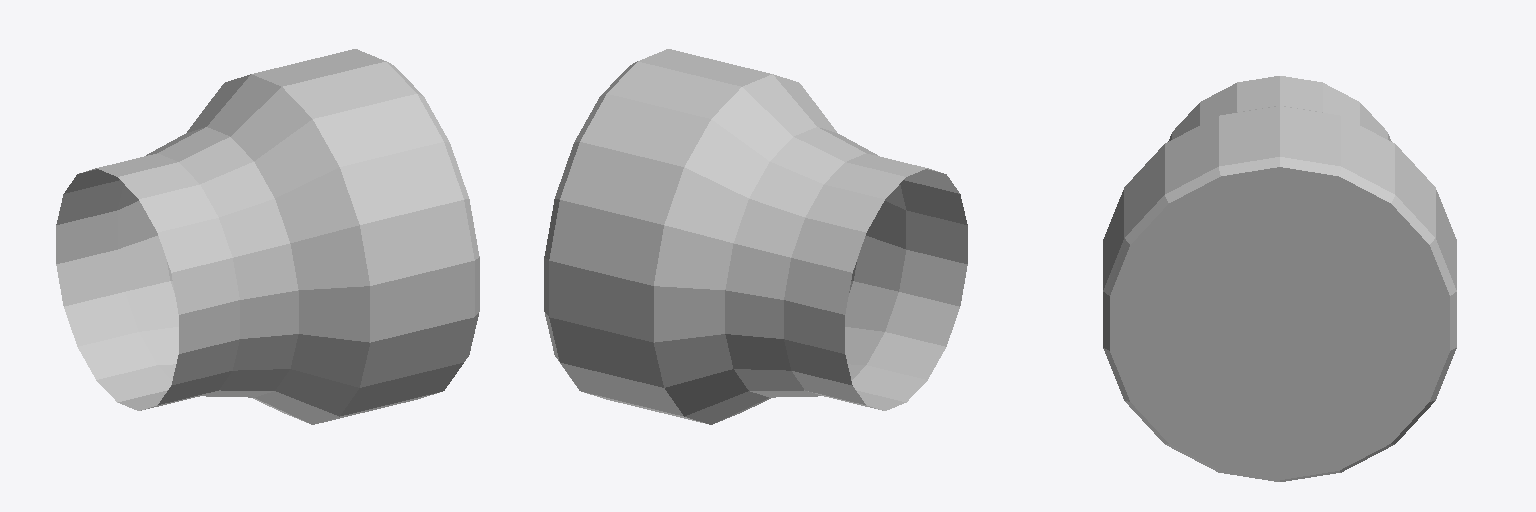
The model's file is door_right_nob.obj.
The picture shows the model from 3 angles: view 1: azimuth 30°, elevation 25°; view 2: azimuth 150°, elevation 25°; view 3: azimuth 270°, elevation 25°; orthographic projection.
Bounding box in the file's own units: 0.0265 × 0.0298 × 0.0293.